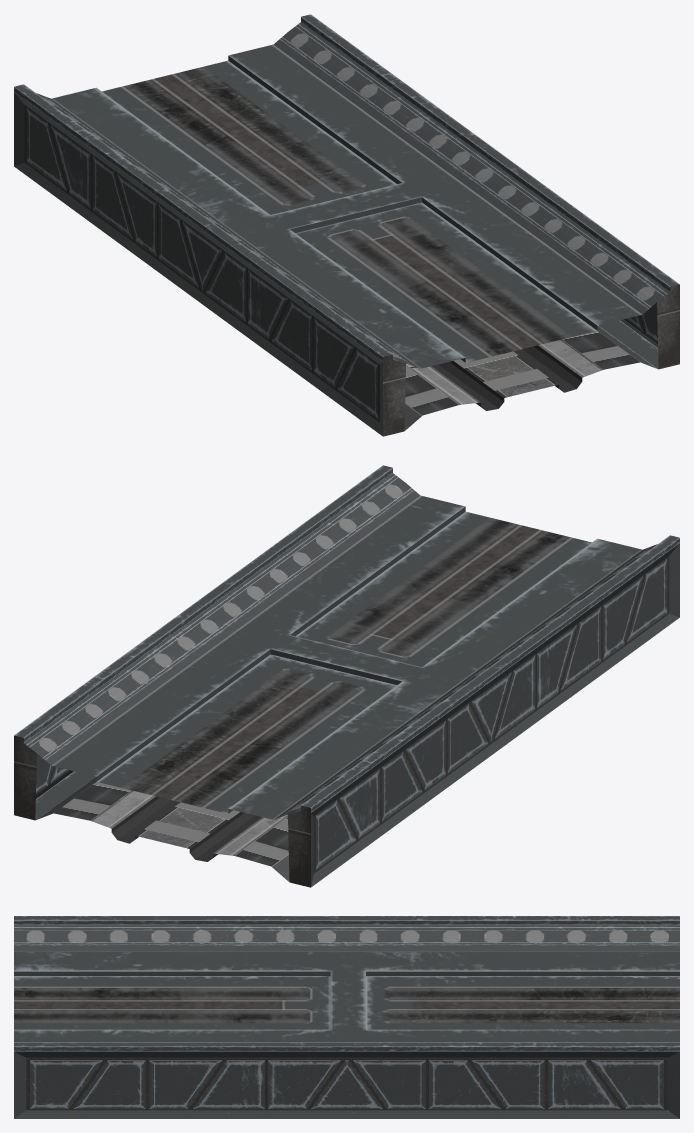
The model's file is platformPrefabStraight.fbx.
3 views of the same model, one above another, from view 1: azimuth 30°, elevation 25°; view 2: azimuth 150°, elevation 25°; view 3: azimuth 270°, elevation 25° (orthographic). The views are drawn at different scales.
Visible parts, largest first — view 1: platformPrefabStraight; view 2: platformPrefabStraight; view 3: platformPrefabStraight.
Boxes of the visible parts, box(x1,y1,x2,y2) form: platformPrefabStraight: box(14, 14, 679, 436); platformPrefabStraight: box(14, 465, 679, 887); platformPrefabStraight: box(14, 916, 679, 1118).
Size of the model in its own units: 186 by 47.89 by 400.
